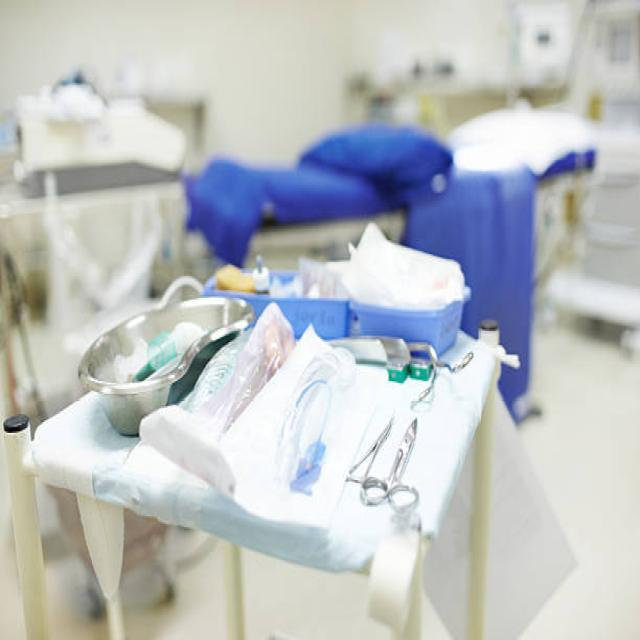tools_table: (5, 222, 523, 640)
